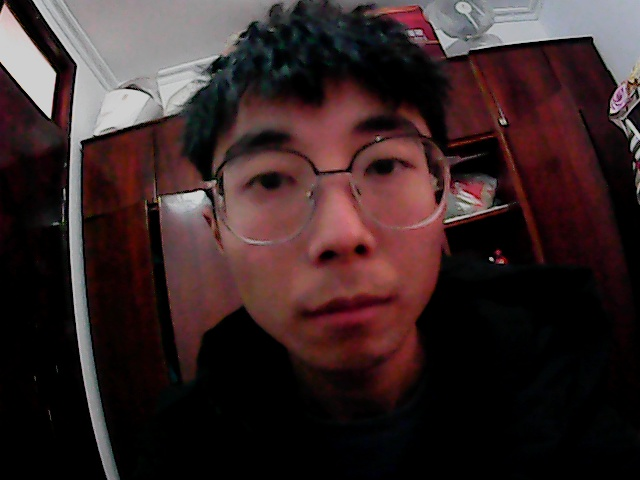face: (176, 4, 462, 368)
